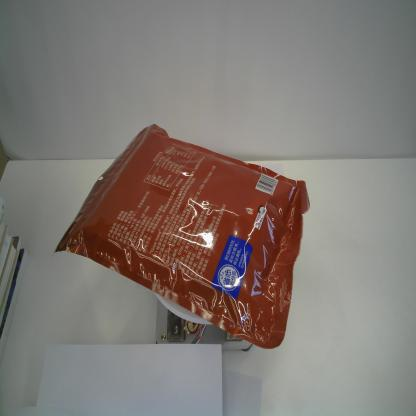Dried Food: (53, 122, 311, 350)
